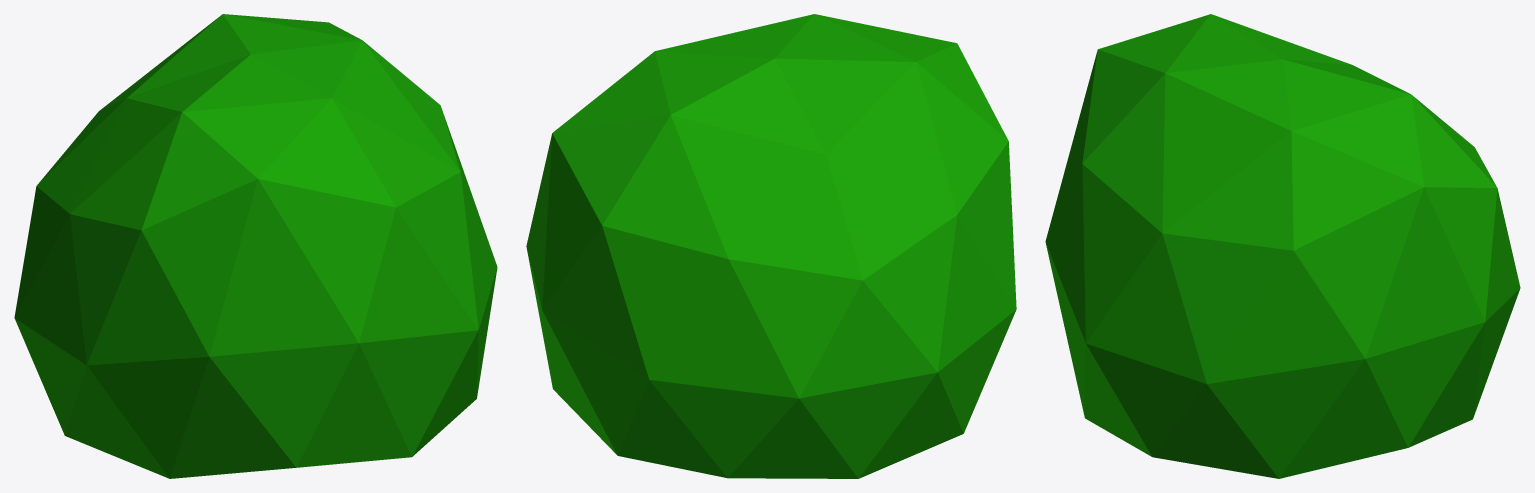
File: Arbusto2.fbx
The picture shows the model from 3 angles, left to right: view 1: azimuth 30°, elevation 25°; view 2: azimuth 150°, elevation 25°; view 3: azimuth 270°, elevation 25°; orthographic projection. The views are drawn at different scales.
Parts seen in each view (by area): view 1: Arbusto2; view 2: Arbusto2; view 3: Arbusto2.
Part boxes in pixels (box(x1,y1,x2,y2)): Arbusto2: box(14, 14, 497, 478); Arbusto2: box(526, 14, 1016, 478); Arbusto2: box(1045, 14, 1520, 478).
Size of the model in its own units: 58.86 by 49.47 by 60.84.
